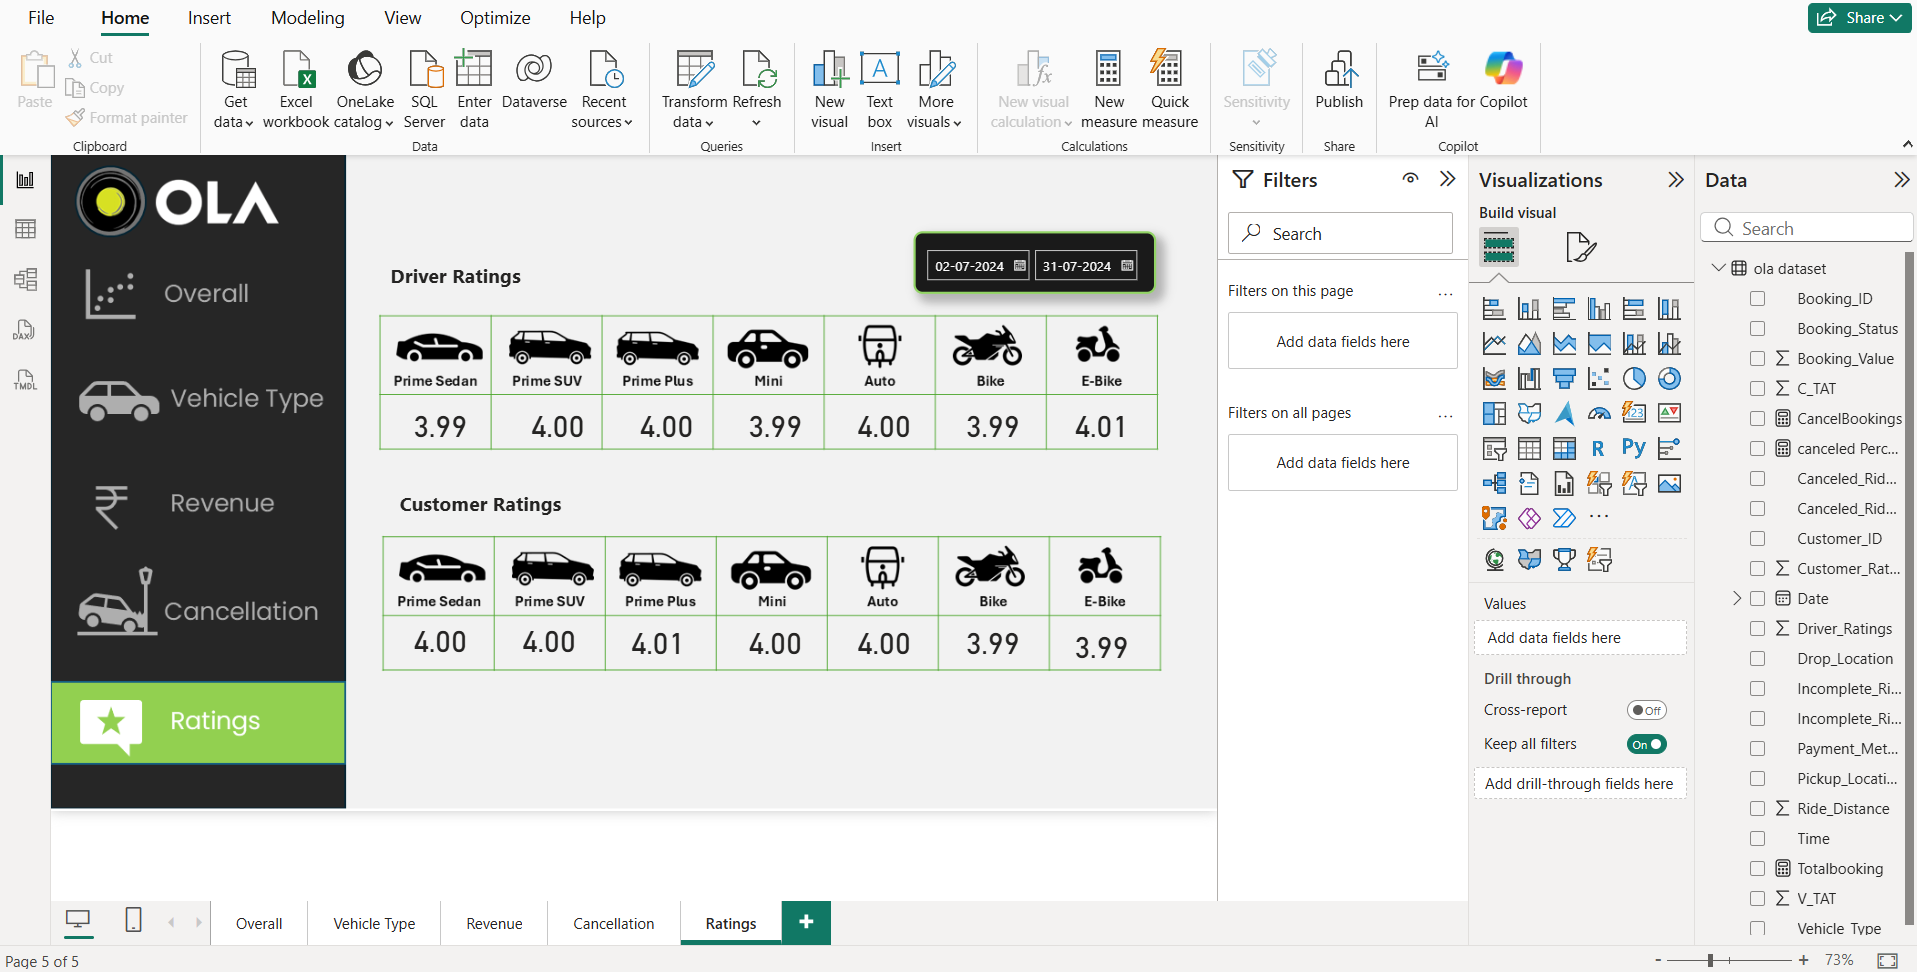

This screenshot's page, from the dashboard's own definition file:
{"tool":"powerbi","page":{"name":"Ratings","canvas":[1280,720],"ordinal":4},"visuals":[{"type":"actionButton","box":[0,222,325.7,91.7],"z":0},{"type":"actionButton","box":[0,341.4,325.7,85.7],"z":1},{"type":"actionButton","box":[0,446.4,325.7,85.7],"z":2},{"type":"actionButton","box":[0,109.8,325.7,85.7],"z":3},{"type":"card","fields":{"Values":["Avg(ola dataset.Driver_Ratings)"]},"box":[367.9,267.8,119.2,57.4],"z":4},{"type":"card","fields":{"Values":["Avg(ola dataset.Driver_Ratings)"]},"box":[497.4,267.8,119.2,57.4],"z":5},{"type":"card","fields":{"Values":["Avg(ola dataset.Driver_Ratings)"]},"box":[616.6,267.8,119.2,57.4],"z":6},{"type":"card","fields":{"Values":["Avg(ola dataset.Driver_Ratings)"]},"box":[735.8,267.8,119.2,57.4],"z":7},{"type":"card","fields":{"Values":["Avg(ola dataset.Driver_Ratings)"]},"box":[855,267.8,119.2,57.4],"z":8},{"type":"card","fields":{"Values":["Avg(ola dataset.Driver_Ratings)"]},"box":[974.2,267.8,119.2,57.4],"z":9},{"type":"card","fields":{"Values":["Avg(ola dataset.Driver_Ratings)"]},"box":[1093.4,267.8,119.2,57.4],"z":10},{"type":"textbox","box":[367.9,111.8,211.9,41.2],"z":11},{"type":"textbox","box":[367.9,362,213.4,45.6],"z":12},{"type":"card","fields":{"Values":["Avg(ola dataset.Customer_Rating)"]},"box":[367.9,503.3,119.2,57.4],"z":13},{"type":"card","fields":{"Values":["Avg(ola dataset.Customer_Rating)"]},"box":[487.1,503.3,119.2,57.4],"z":14},{"type":"card","fields":{"Values":["Avg(ola dataset.Customer_Rating)"]},"box":[606.3,504.8,119.2,57.4],"z":15},{"type":"card","fields":{"Values":["Avg(ola dataset.Customer_Rating)"]},"box":[735.8,504.8,119.2,57.4],"z":16},{"type":"card","fields":{"Values":["Avg(ola dataset.Customer_Rating)"]},"box":[855,504.8,119.2,57.4],"z":17},{"type":"card","fields":{"Values":["Avg(ola dataset.Customer_Rating)"]},"box":[974.2,504.8,119.2,57.4],"z":18},{"type":"card","fields":{"Values":["Avg(ola dataset.Customer_Rating)"]},"box":[1093.4,504.8,119.2,67.7],"z":19},{"type":"slicer","title":"Date","fields":{"Values":["ola dataset.Date"]},"box":[946.2,83.9,266.2,68.6],"z":20}]}

Visuals, with their boxes on the page's 1280x720 design canvas (x1, y1, x2, y2). These are canvas units, not pixel positions in the 1917x972 screenshot, which may show the page scaled, cropped or inside an application window:
actionButton: (0,222,326,314)
actionButton: (0,341,326,427)
actionButton: (0,446,326,532)
actionButton: (0,110,326,196)
card - Avg(ola dataset.Driver_Ratings): (368,268,487,325)
card - Avg(ola dataset.Driver_Ratings): (497,268,617,325)
card - Avg(ola dataset.Driver_Ratings): (617,268,736,325)
card - Avg(ola dataset.Driver_Ratings): (736,268,855,325)
card - Avg(ola dataset.Driver_Ratings): (855,268,974,325)
card - Avg(ola dataset.Driver_Ratings): (974,268,1093,325)
card - Avg(ola dataset.Driver_Ratings): (1093,268,1213,325)
textbox: (368,112,580,153)
textbox: (368,362,581,408)
card - Avg(ola dataset.Customer_Rating): (368,503,487,561)
card - Avg(ola dataset.Customer_Rating): (487,503,606,561)
card - Avg(ola dataset.Customer_Rating): (606,505,726,562)
card - Avg(ola dataset.Customer_Rating): (736,505,855,562)
card - Avg(ola dataset.Customer_Rating): (855,505,974,562)
card - Avg(ola dataset.Customer_Rating): (974,505,1093,562)
card - Avg(ola dataset.Customer_Rating): (1093,505,1213,572)
"Date" slicer: (946,84,1212,152)
